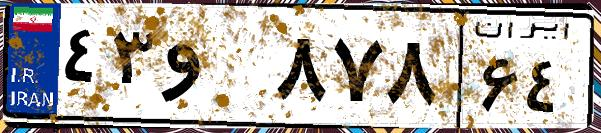3: (110, 28, 158, 98)
4: (57, 26, 110, 100), (525, 38, 570, 115)
6: (475, 38, 525, 113)
7: (330, 28, 385, 110)
8: (270, 28, 330, 110), (385, 28, 445, 110)
و: (158, 20, 270, 120)
